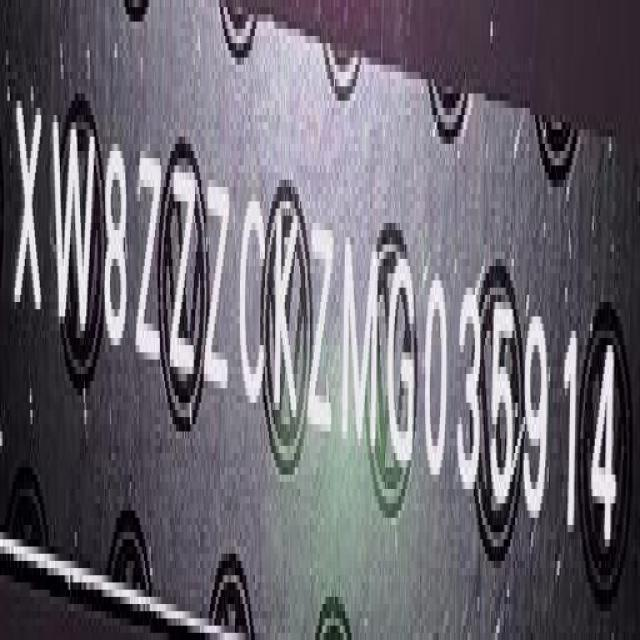0: (422, 269, 449, 489)
1: (562, 313, 581, 556)
3: (457, 282, 482, 507)
4: (594, 326, 623, 580)
5: (491, 283, 519, 520)
8: (105, 135, 130, 359)
9: (523, 306, 550, 533)
C: (238, 186, 266, 414)
G: (388, 237, 419, 478)
K: (273, 190, 302, 430)
M: (340, 229, 380, 450)
W: (50, 110, 96, 353)
X: (13, 76, 46, 331)
Z: (307, 213, 336, 449), (171, 159, 200, 394), (137, 142, 164, 378), (206, 170, 232, 404)
